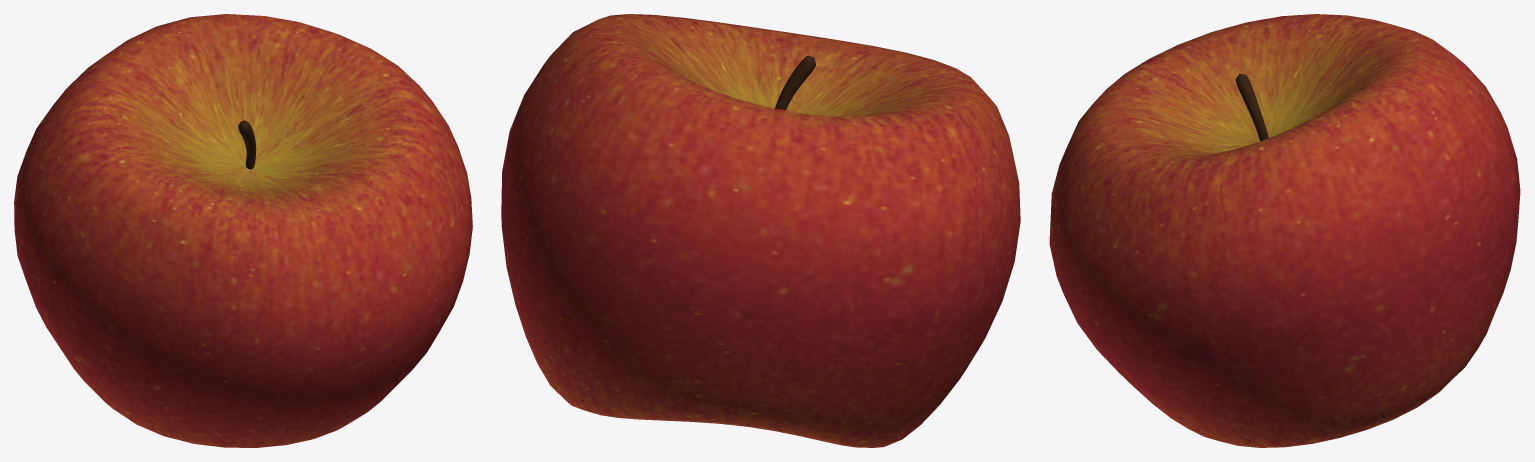
File: apple.gltf
3 renders of one model, left to right at view 1: azimuth 30°, elevation 25°; view 2: azimuth 150°, elevation 25°; view 3: azimuth 270°, elevation 25°, orthographic. The views are drawn at different scales.
Visible parts, largest first — view 1: 球, 円柱; view 2: 球, 円柱; view 3: 球, 円柱.
Part boxes in pixels (x1,y1,x2,y2): 球: (14,14,472,447); 円柱: (238,120,256,169); 球: (501,14,1020,447); 円柱: (775,55,815,110); 球: (1049,14,1520,447); 円柱: (1235,73,1268,141).
Bounding box in the file's own units: 4.02 × 3.32 × 4.
Materials: 2 (1 with a texture image).
